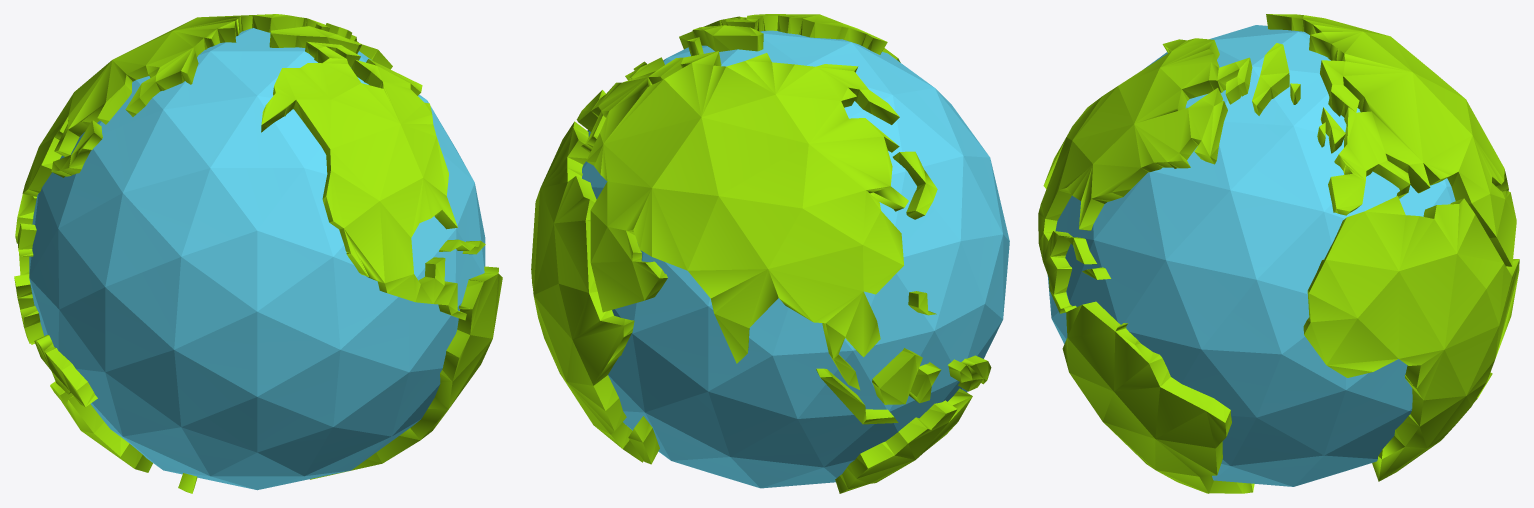
Rendered from earth.fbx.
3 renders of one model, left to right at view 1: azimuth 30°, elevation 25°; view 2: azimuth 150°, elevation 25°; view 3: azimuth 270°, elevation 25°, orthographic.
Visible parts, largest first — view 1: earthBlue, earthGreen; view 2: earthGreen, earthBlue; view 3: earthGreen, earthBlue.
Part boxes in pixels (x1,y1,x2,y2): earthBlue: (29,28,485,490); earthGreen: (14,14,502,493); earthGreen: (531,14,991,493); earthBlue: (582,30,1009,488); earthGreen: (1038,14,1519,493); earthBlue: (1047,25,1455,486).
Size of the model in its own units: 4.68 by 4.73 by 4.69.
